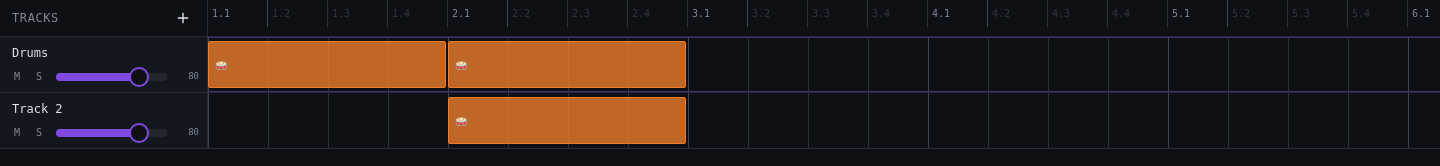
Test case: Timeline › selects a clip on click
This screenshot has width=1440, height=166.
Click the 1st text "🥁" at (221, 64), box top-left (215, 57), bottom-right (228, 72)
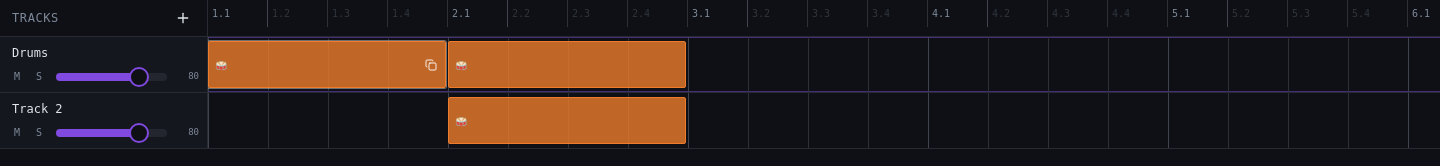
Expected: the button titled "Duplicate clip" is shown, top-left (423, 56), bottom-right (439, 72)
